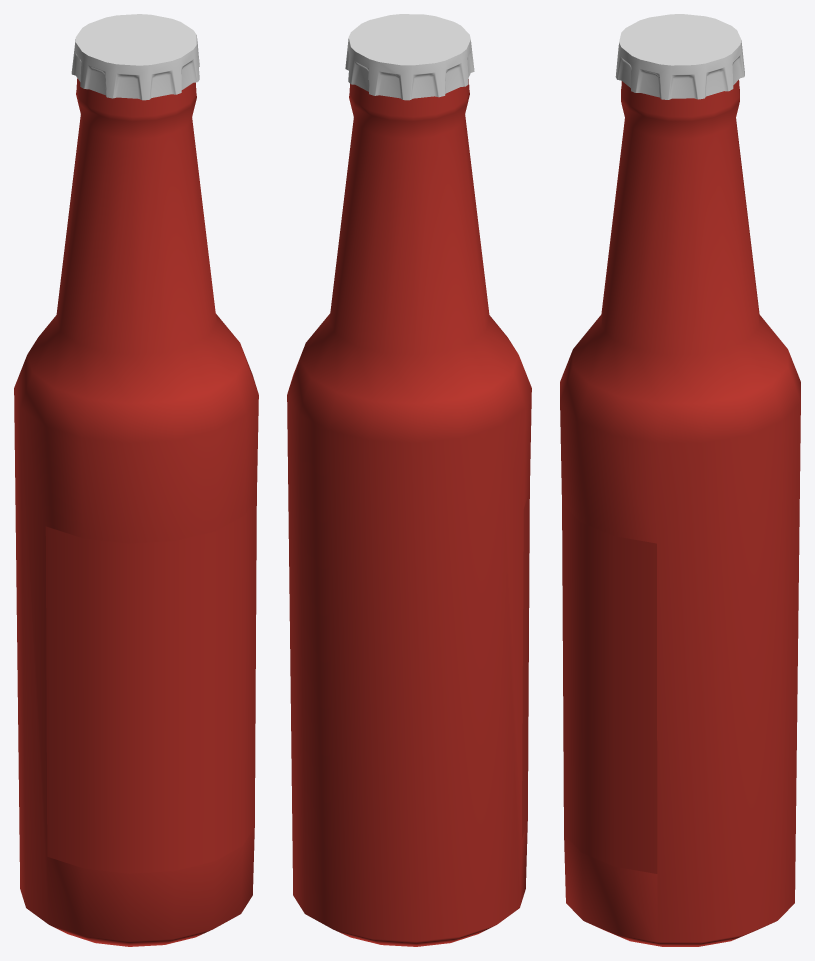
The model's file is cervejavidro.fbx.
3 views of the same model, side by side, from view 1: azimuth 30°, elevation 25°; view 2: azimuth 150°, elevation 25°; view 3: azimuth 270°, elevation 25° (orthographic).
Visible parts, largest first — view 1: Cylinder_hp.001, Cylinder_hp.003, carica_lp.001; view 2: Cylinder_hp.001, carica_lp.001, Cylinder_hp.003; view 3: Cylinder_hp.001, Cylinder_hp.003, carica_lp.001.
Part boxes in pixels (x1,y1,x2,y2): Cylinder_hp.001: [14, 78, 258, 946]; Cylinder_hp.003: [45, 496, 256, 873]; carica_lp.001: [71, 14, 199, 100]; Cylinder_hp.001: [287, 79, 531, 946]; carica_lp.001: [345, 14, 474, 100]; Cylinder_hp.003: [521, 490, 529, 839]; Cylinder_hp.001: [560, 80, 800, 946]; Cylinder_hp.003: [562, 504, 657, 873]; carica_lp.001: [615, 14, 744, 99].
Bounding box in the file's own units: 149 × 595 × 149.
